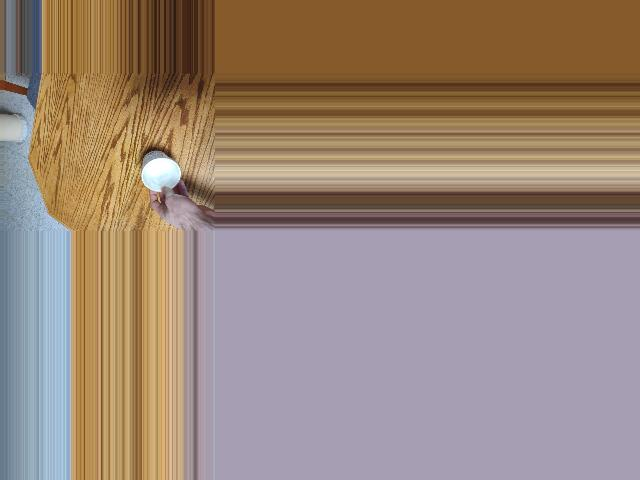cotage: (141, 157, 183, 195)
